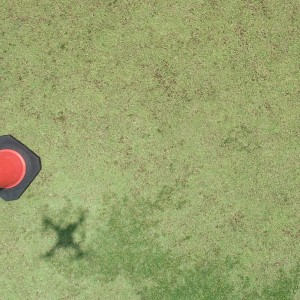traffic cone: (1, 131, 42, 202)
